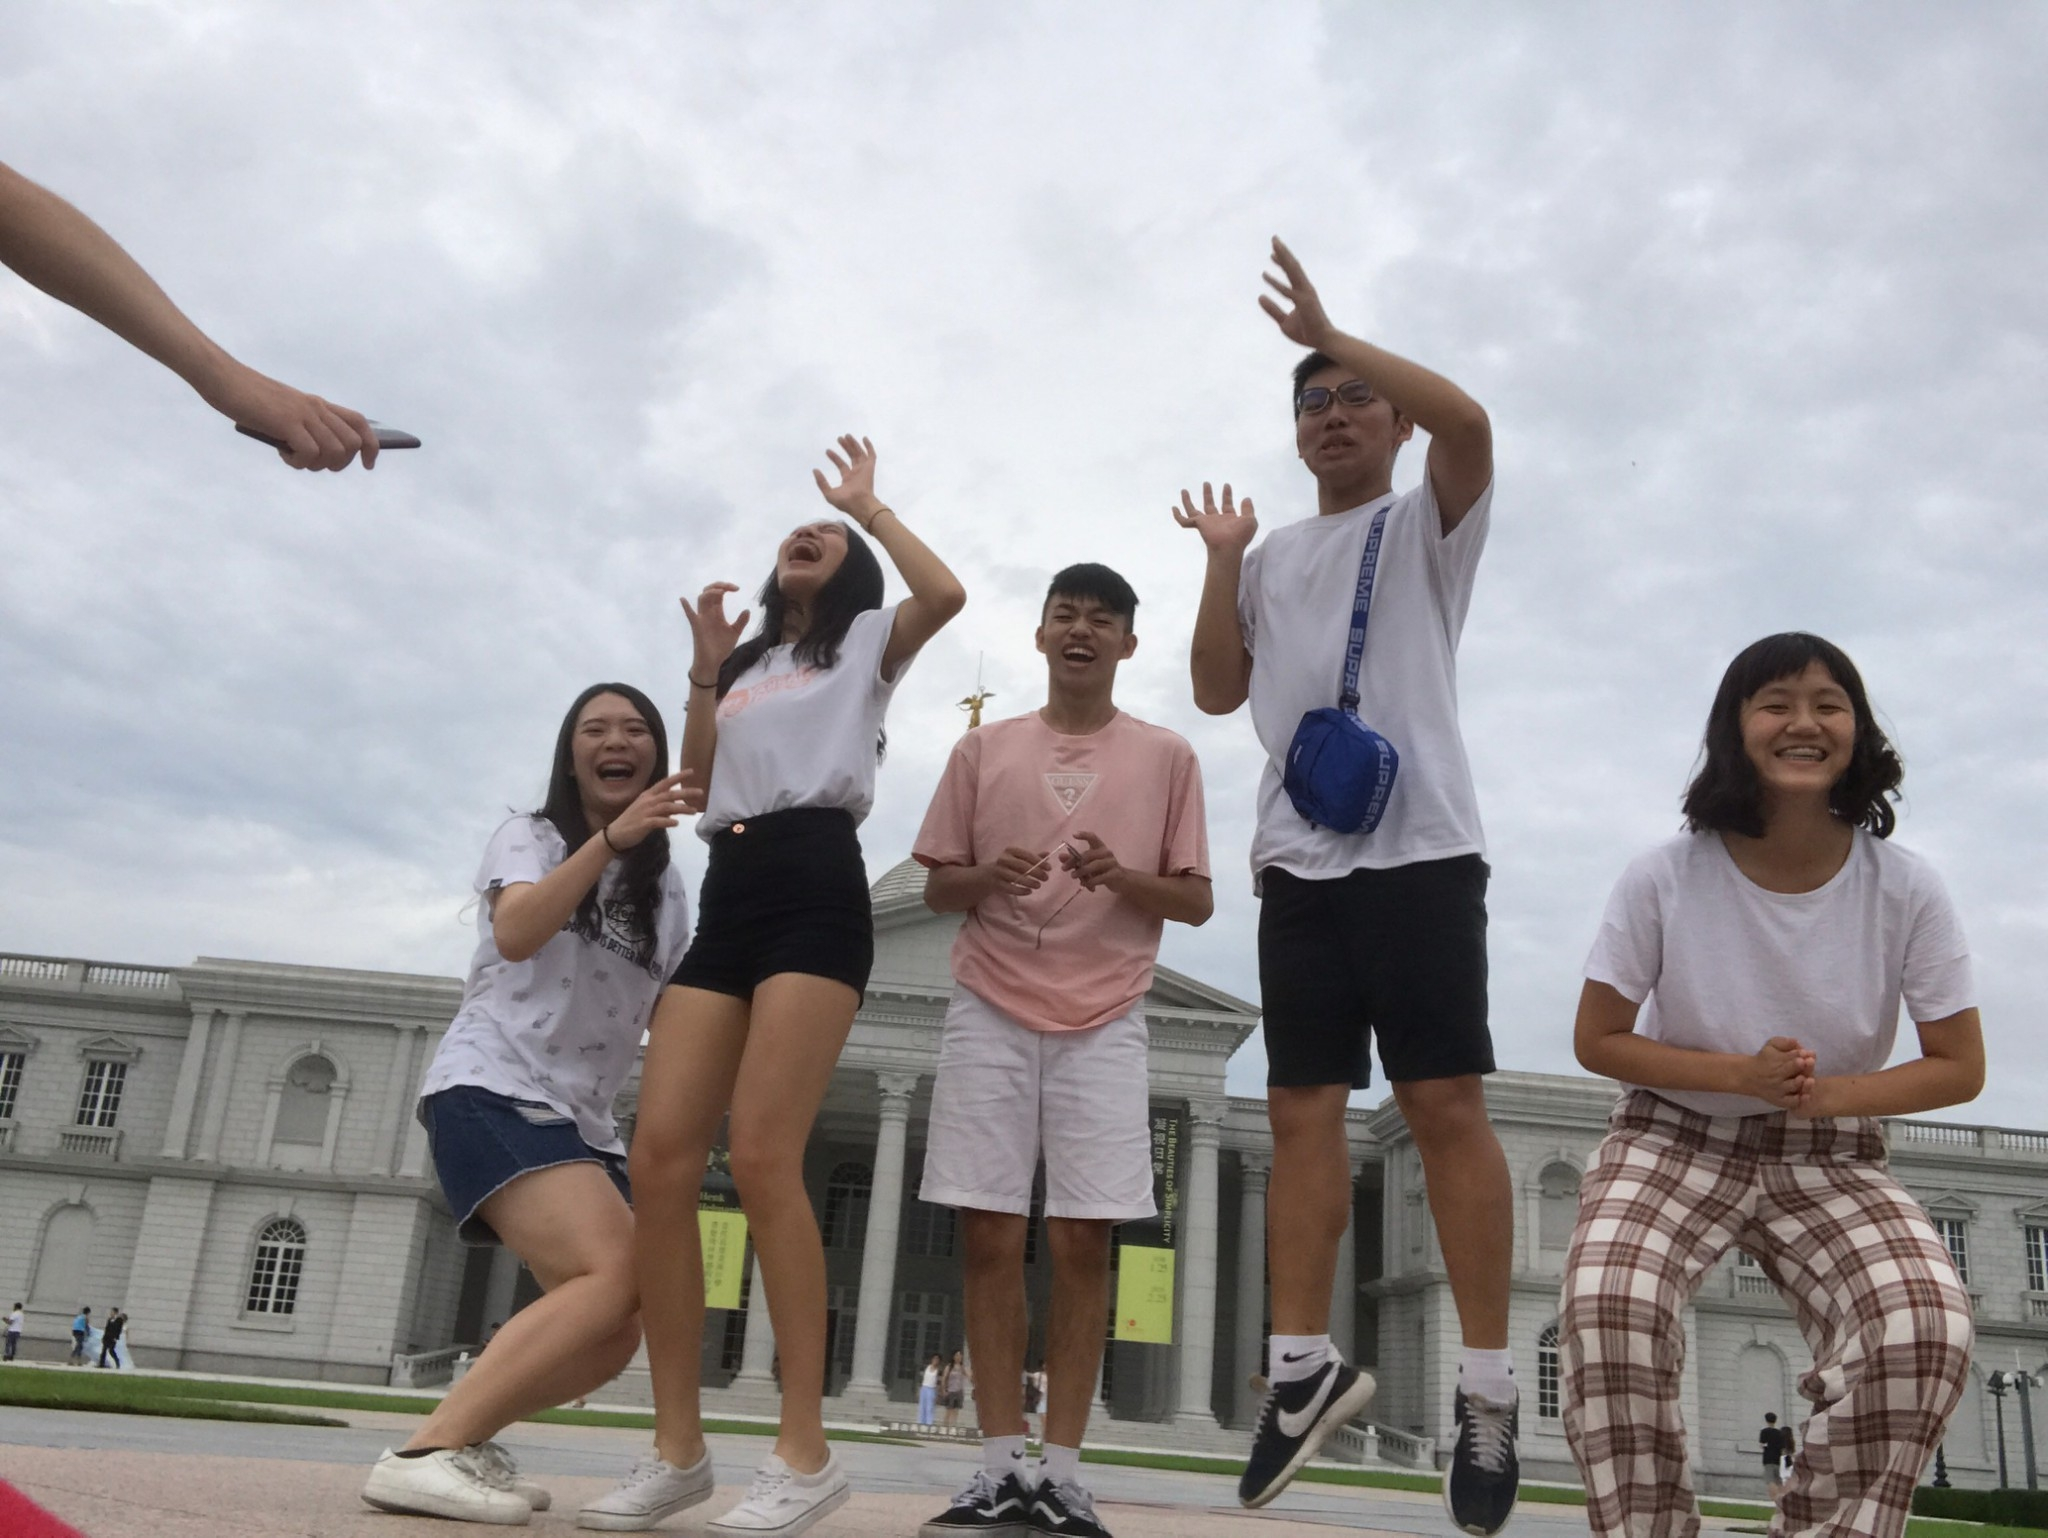people: (1210, 347, 1537, 1532), (1625, 629, 1952, 1538), (672, 509, 907, 1538), (966, 561, 1175, 1538), (475, 685, 657, 1538)
